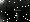person: (15, 8, 22, 20)
